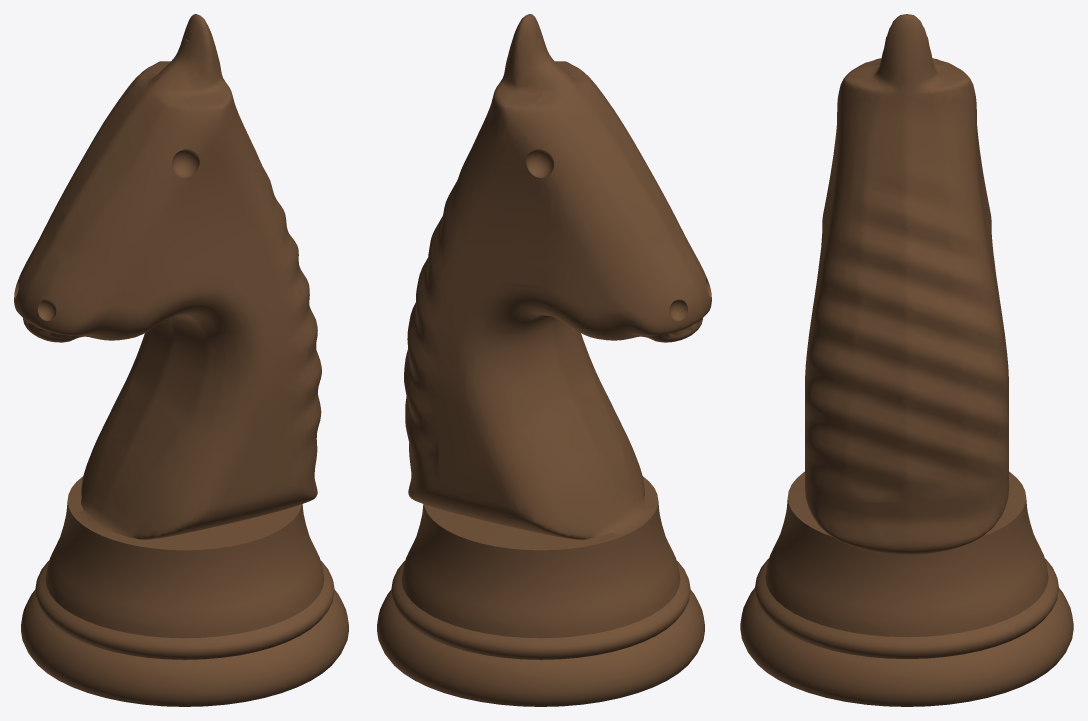
The model's file is black-knight.glb.
The picture shows the model from 3 angles, left to right: view 1: azimuth 30°, elevation 25°; view 2: azimuth 150°, elevation 25°; view 3: azimuth 270°, elevation 25°; orthographic projection.
Parts seen in each view (by area): view 1: black-knight.001; view 2: black-knight.001; view 3: black-knight.001.
Boxes of the visible parts, <box> form: black-knight.001: <box>14,14,348,706</box>; black-knight.001: <box>377,14,711,706</box>; black-knight.001: <box>740,14,1073,706</box>.
Bounding box in the file's own units: 0.6624 × 1.3 × 0.62.
